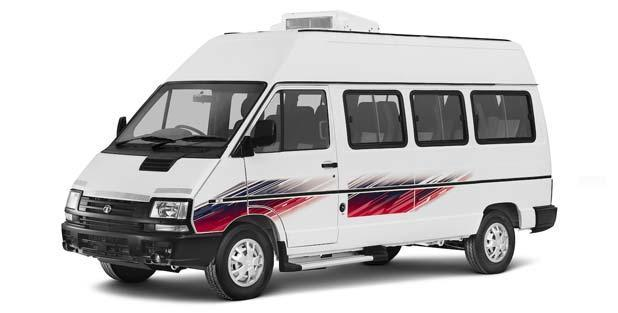car: (64, 20, 562, 299)
